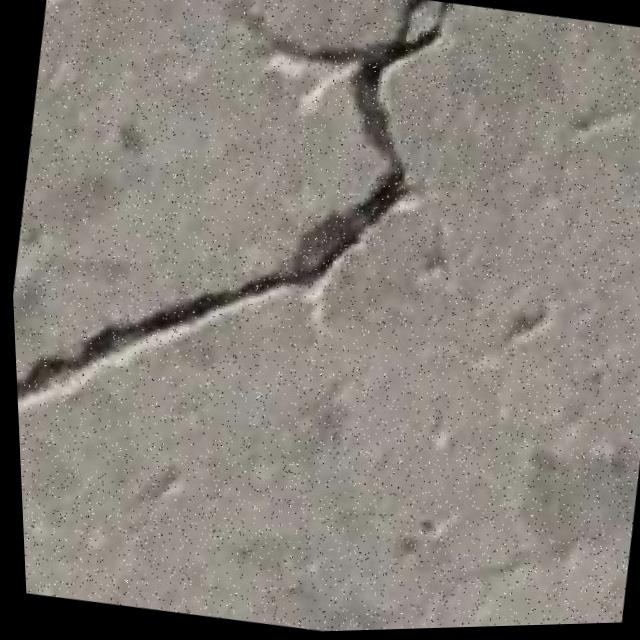Crack: (0, 0, 493, 491)
